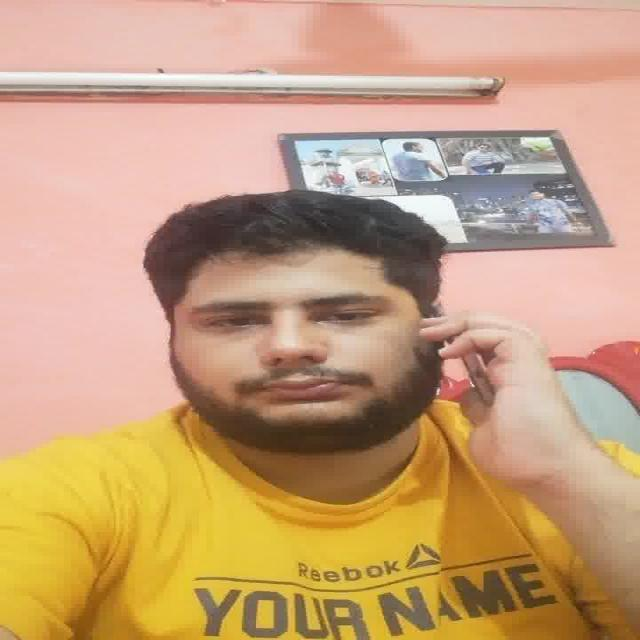Phone: (455, 341, 501, 417)
